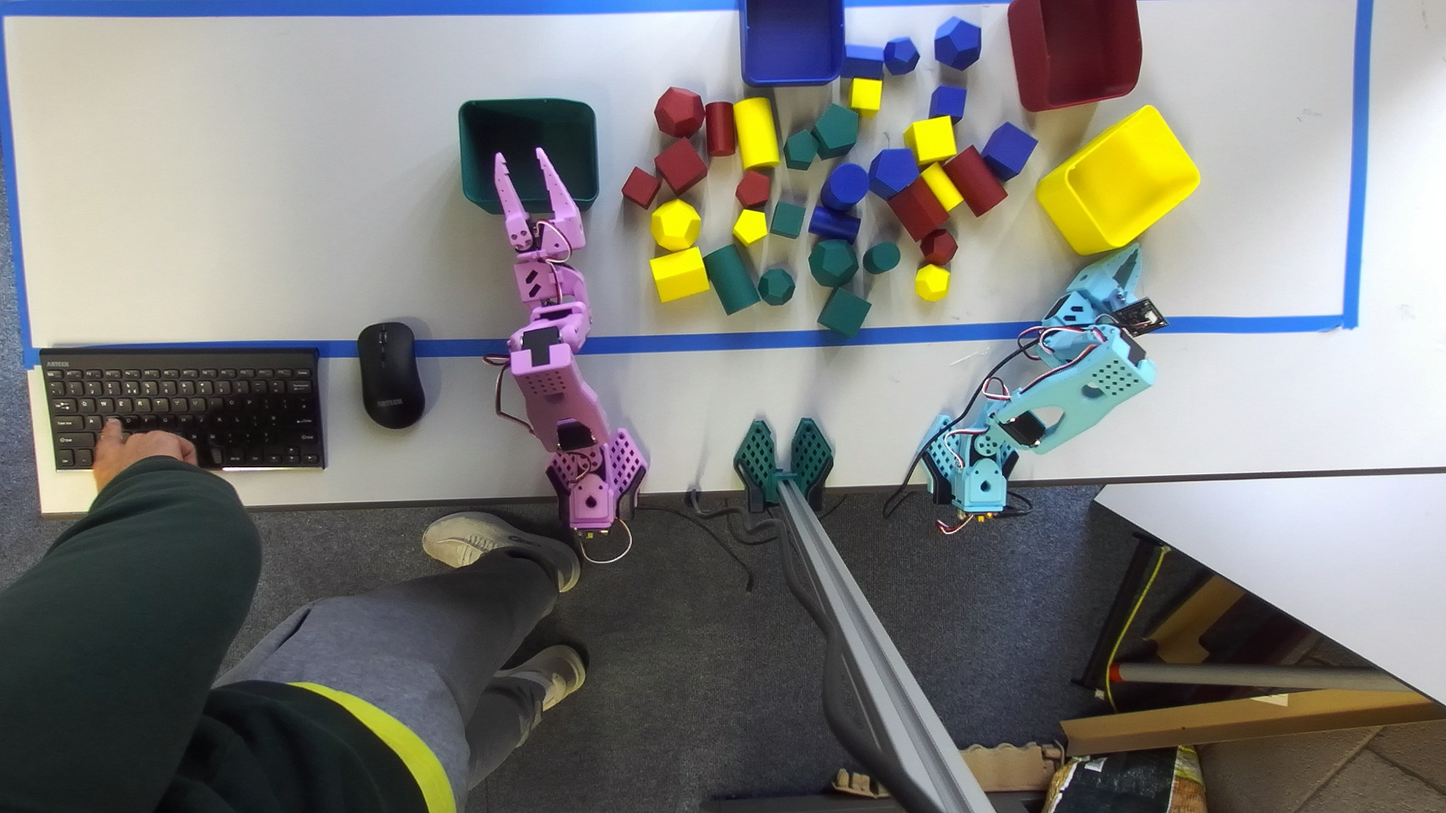bin: (1036, 105, 1200, 254), (459, 99, 598, 214), (1008, 0, 1141, 111), (739, 0, 844, 86)
cube: (981, 122, 1036, 181), (654, 139, 707, 194), (817, 288, 871, 337), (904, 116, 956, 166), (621, 167, 661, 209), (929, 85, 966, 122), (770, 201, 805, 238), (849, 78, 882, 115)
cylinder: (943, 146, 1007, 216), (703, 244, 759, 314), (733, 97, 780, 169), (821, 163, 869, 210), (920, 163, 963, 210), (808, 205, 860, 243), (705, 101, 736, 157), (862, 242, 900, 274)
dodecahedron: (651, 199, 700, 251), (654, 87, 704, 137), (809, 239, 858, 288), (935, 17, 981, 69), (920, 227, 957, 266), (758, 267, 795, 305), (883, 37, 919, 75), (915, 263, 949, 300)
gripper: (494, 147, 584, 258), (1066, 242, 1141, 313)
hexagonal: (887, 178, 947, 242), (649, 247, 709, 302), (868, 148, 920, 199), (811, 103, 858, 158), (841, 44, 883, 80), (735, 169, 770, 209), (784, 129, 816, 170), (733, 209, 767, 245)
